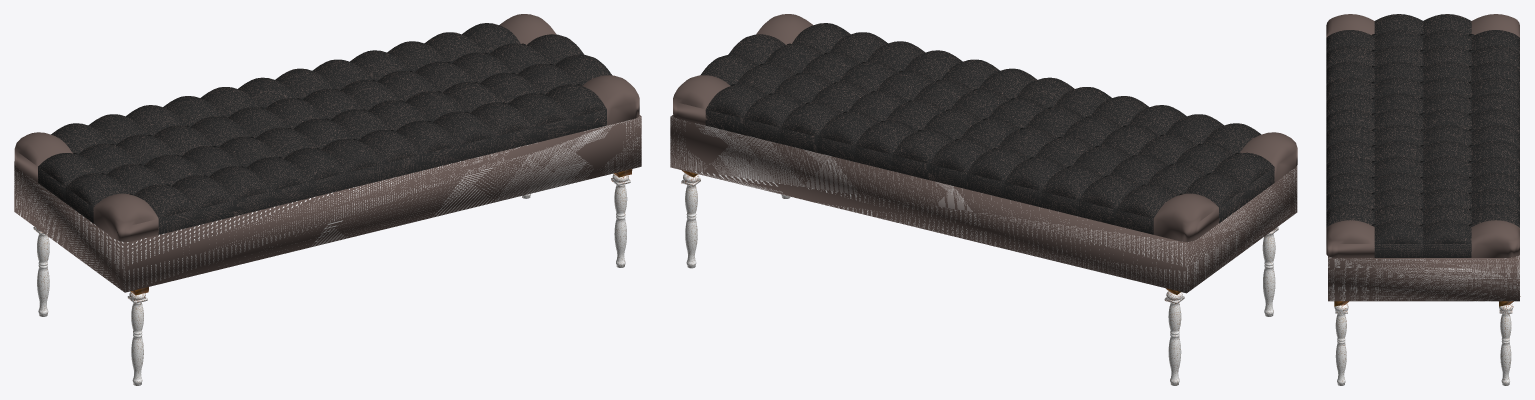
3 views of the same model, side by side, from view 1: azimuth 30°, elevation 25°; view 2: azimuth 150°, elevation 25°; view 3: azimuth 270°, elevation 25° (orthographic). The views are drawn at different scales.
Visible parts, largest first — view 1: mesh2_mesh2-geometry, mesh6_mesh6-geometry, mesh3_mesh3-geometry, mesh4_mesh4-geometry, mesh7_mesh7-geometry; view 2: mesh2_mesh2-geometry, mesh6_mesh6-geometry, mesh3_mesh3-geometry, mesh4_mesh4-geometry, mesh7_mesh7-geometry; view 3: mesh2_mesh2-geometry, mesh3_mesh3-geometry, mesh6_mesh6-geometry, mesh4_mesh4-geometry, mesh7_mesh7-geometry, mesh1_mesh1-geometry.
Boxes of the visible parts, x1=… form: mesh2_mesh2-geometry: x1=38, y1=23, x2=611, y2=234; mesh6_mesh6-geometry: x1=14, y1=115, x2=641, y2=292; mesh3_mesh3-geometry: x1=78, y1=43, x2=576, y2=195; mesh4_mesh4-geometry: x1=14, y1=14, x2=639, y2=242; mesh7_mesh7-geometry: x1=33, y1=169, x2=632, y2=385; mesh2_mesh2-geometry: x1=700, y1=23, x2=1274, y2=234; mesh6_mesh6-geometry: x1=670, y1=115, x2=1297, y2=293; mesh3_mesh3-geometry: x1=736, y1=43, x2=1233, y2=195; mesh4_mesh4-geometry: x1=673, y1=14, x2=1297, y2=242; mesh7_mesh7-geometry: x1=681, y1=170, x2=1278, y2=385; mesh2_mesh2-geometry: x1=1326, y1=14, x2=1519, y2=257; mesh3_mesh3-geometry: x1=1374, y1=30, x2=1471, y2=225; mesh6_mesh6-geometry: x1=1328, y1=255, x2=1519, y2=301; mesh4_mesh4-geometry: x1=1326, y1=14, x2=1519, y2=257; mesh7_mesh7-geometry: x1=1334, y1=296, x2=1520, y2=385; mesh1_mesh1-geometry: x1=1371, y1=34, x2=1474, y2=226.
Bounding box in the file's own units: 0.8941 × 0.3015 × 0.3311.
